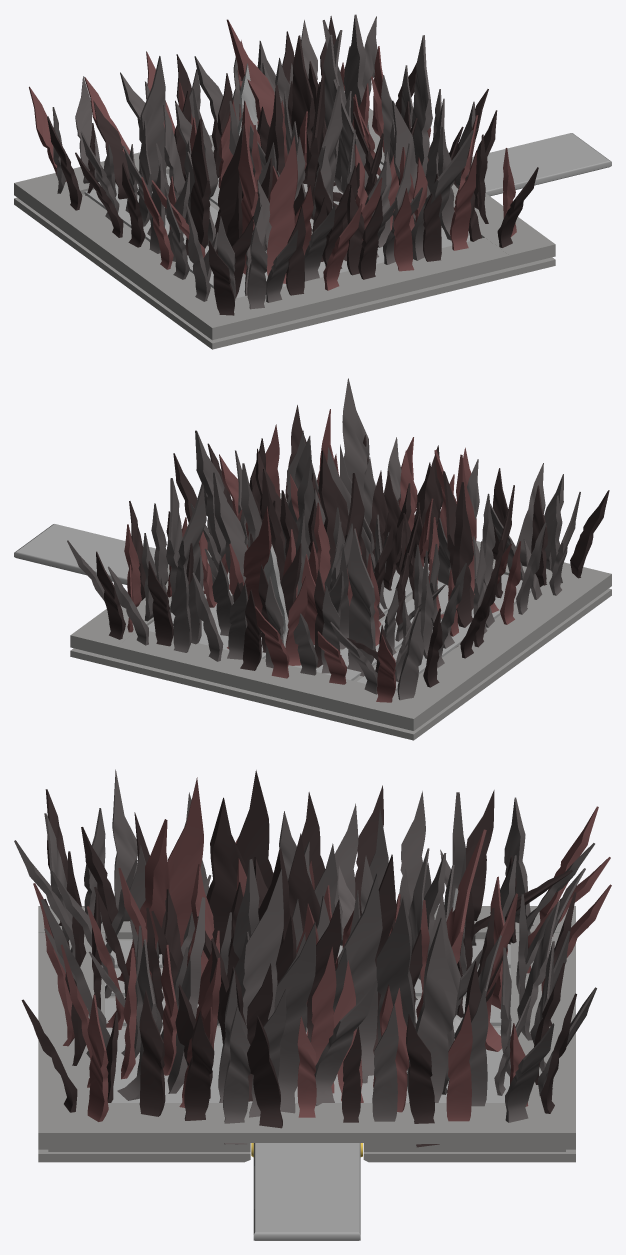
Rendered from Spike trap.fbx.
The picture shows the model from 3 angles, top to bottom: view 1: azimuth 30°, elevation 25°; view 2: azimuth 150°, elevation 25°; view 3: azimuth 270°, elevation 25°; orthographic projection. The views are drawn at different scales.
Visible parts, largest first — view 1: polySurface182, polySurface183, polySurface203, polySurface187, polySurface180, polySurface29, polySurface189, polySurface102, polySurface123, polySurface56, polySurface154, polySurface44 (+66 smaller); view 2: polySurface182, polySurface181, polySurface203, polySurface189, polySurface102, polySurface123, polySurface44, polySurface180, polySurface190, polySurface173, polySurface49, polySurface120 (+79 smaller); view 3: polySurface180, polySurface203, polySurface183, polySurface181, polySurface96, polySurface56, polySurface140, polySurface186, polySurface157, polySurface121, polySurface49, polySurface129 (+92 smaller).
Part boxes in pixels (x1,y1,x2,y2): polySurface182: [14, 173, 252, 340]; polySurface183: [187, 237, 555, 339]; polySurface203: [471, 133, 611, 196]; polySurface187: [134, 257, 555, 349]; polySurface180: [368, 108, 555, 262]; polySurface29: [266, 135, 297, 283]; polySurface189: [14, 197, 403, 349]; polySurface102: [137, 56, 165, 195]; polySurface123: [185, 118, 210, 255]; polySurface56: [412, 35, 432, 175]; polySurface154: [291, 35, 335, 186]; polySurface44: [411, 130, 473, 260]; polySurface182: [373, 565, 611, 730]; polySurface181: [70, 631, 437, 730]; polySurface203: [14, 524, 155, 584]; polySurface189: [221, 589, 611, 740]; polySurface102: [347, 528, 375, 676]; polySurface123: [452, 482, 473, 627]; polySurface44: [342, 378, 369, 505]; polySurface180: [70, 493, 287, 653]; polySurface190: [70, 648, 489, 735]; polySurface173: [318, 450, 348, 566]; polySurface49: [213, 472, 247, 602]; polySurface120: [243, 506, 271, 612]; polySurface180: [38, 1103, 575, 1142]; polySurface203: [253, 1143, 360, 1240]; polySurface183: [38, 932, 104, 1149]; polySurface181: [510, 932, 575, 1149]; polySurface96: [407, 918, 457, 1102]; polySurface56: [273, 921, 316, 1113]; polySurface140: [343, 873, 382, 1083]; polySurface186: [106, 1027, 509, 1102]; polySurface157: [242, 869, 283, 1026]; polySurface121: [168, 777, 203, 966]; polySurface49: [376, 896, 415, 1070]; polySurface129: [206, 797, 245, 953].
Bounding box in the file's own units: 7.07 × 2.31 × 5.52.
